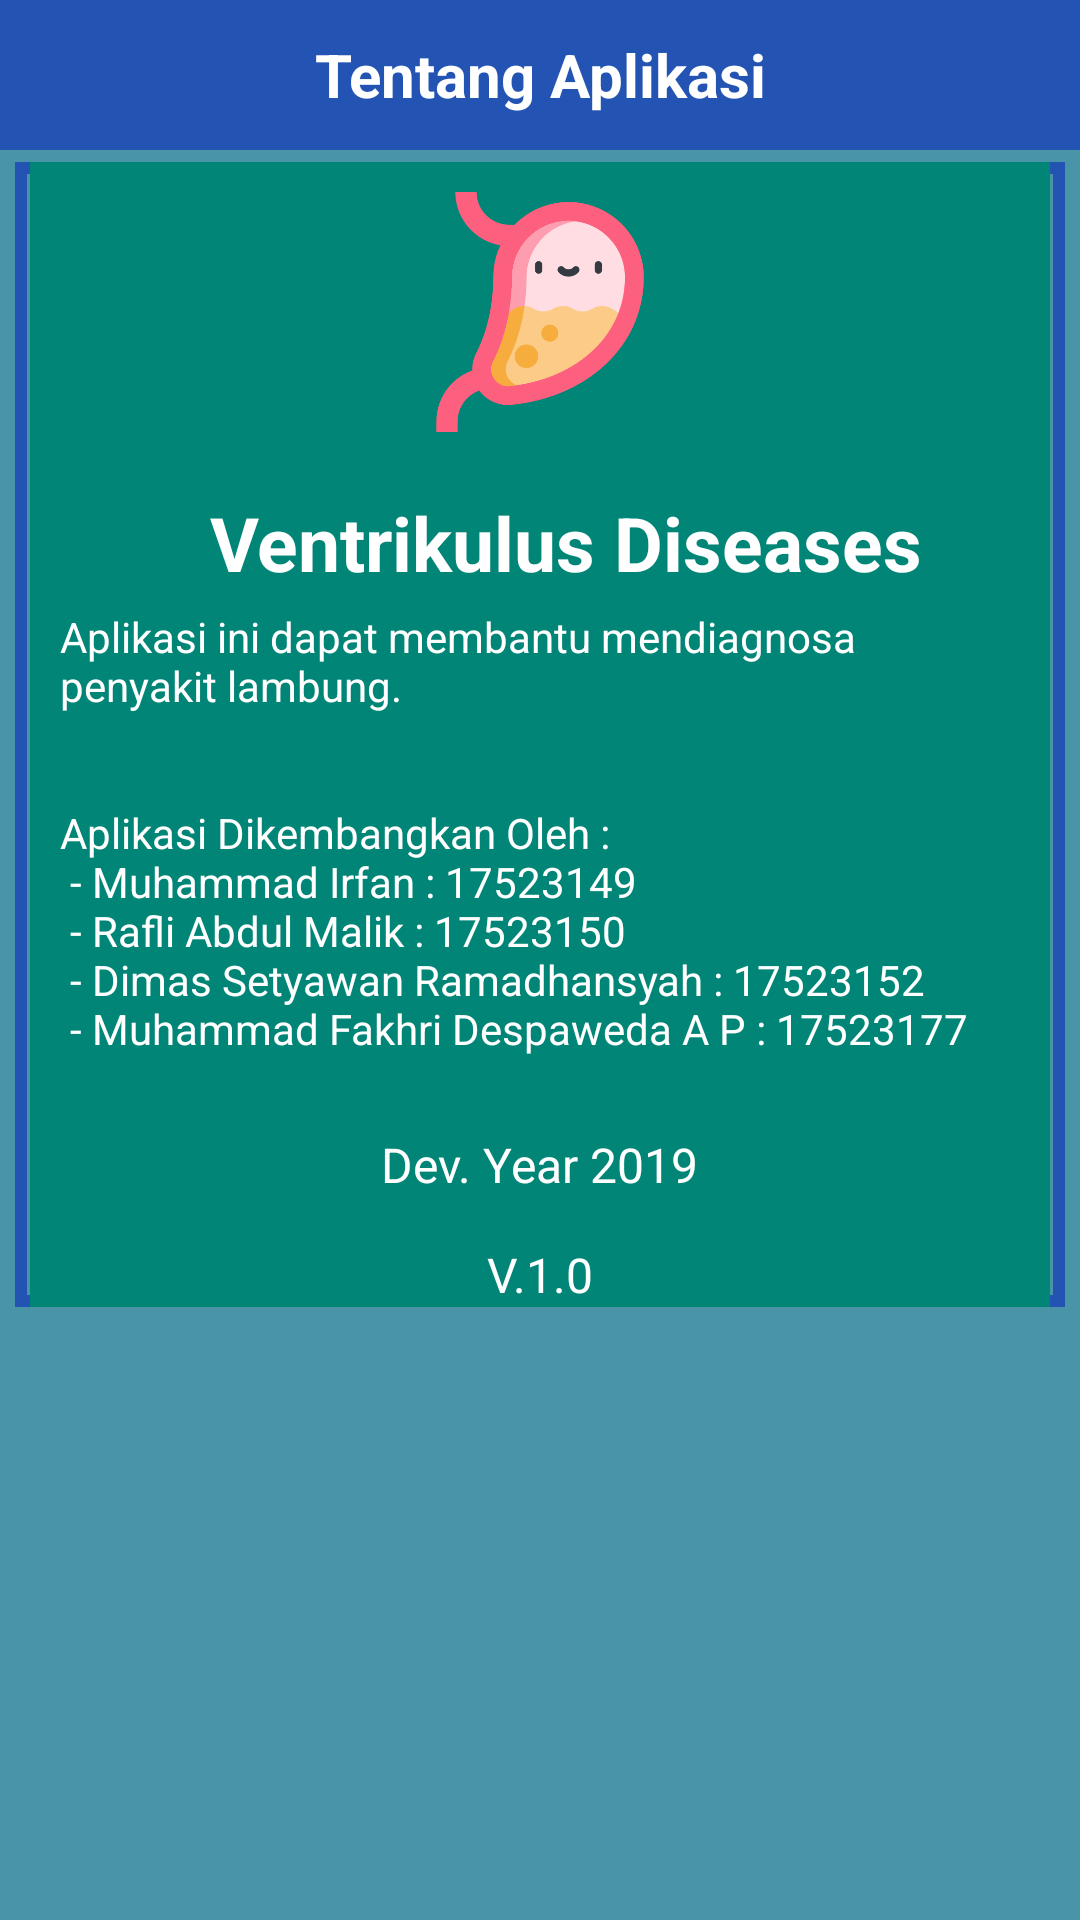

Screen size 1080×1920. Icon name, then its center in pixels as [x,y]:
lambung: [540,312]
